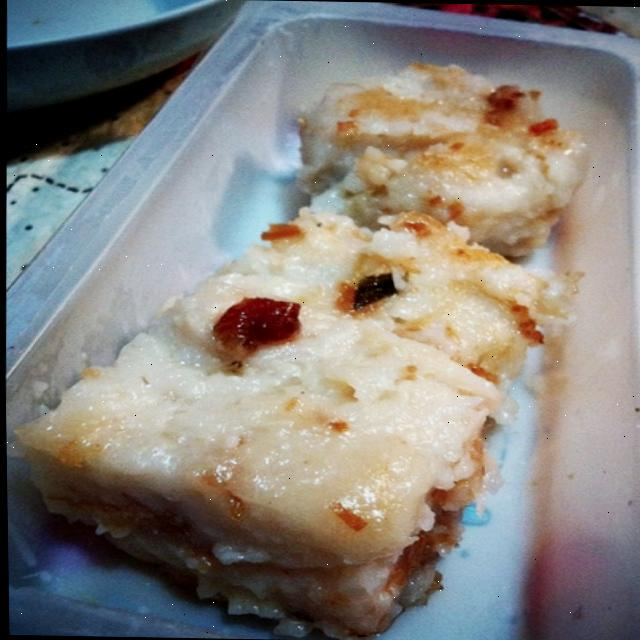蛋糕甜品: (0, 14, 625, 640)
